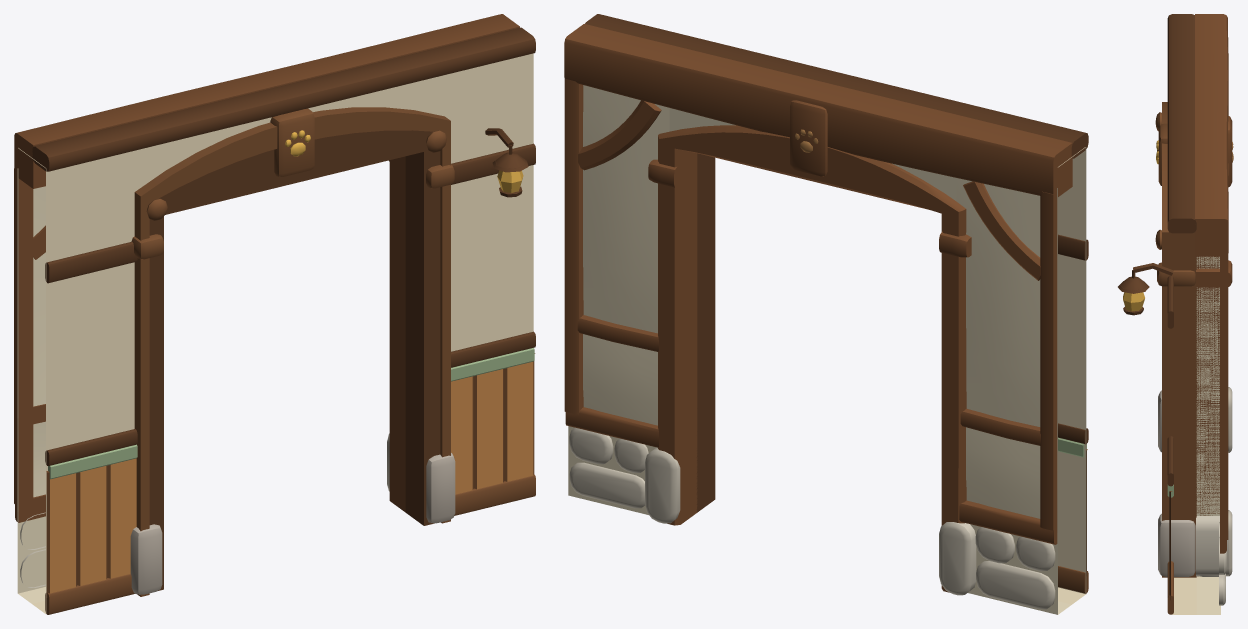
The model's file is ZoneKitWallDoor_v2.fbx.
3 renders of one model, left to right at view 1: azimuth 30°, elevation 25°; view 2: azimuth 150°, elevation 25°; view 3: azimuth 270°, elevation 25°, orthographic. The views are drawn at different scales.
Visible parts, largest first — view 1: ZoneKitWallDoor_v2; view 2: ZoneKitWallDoor_v2; view 3: ZoneKitWallDoor_v2.
Boxes of the visible parts, x1,y1,x2,y2 form: ZoneKitWallDoor_v2: (14,14,535,614); ZoneKitWallDoor_v2: (564,14,1088,614); ZoneKitWallDoor_v2: (1118,14,1233,614).
Size of the model in its own units: 3 by 2.7 by 0.7173.
